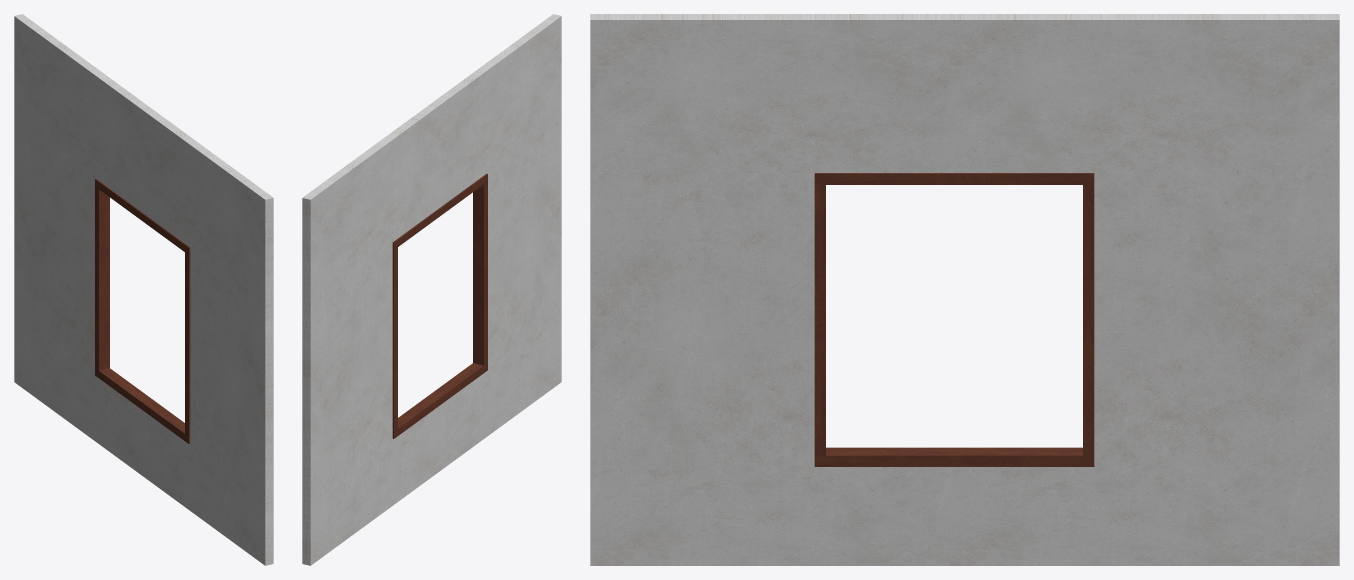
Rendered from SM_White_Red_Wall01Q.fbx.
The picture shows the model from 3 angles, left to right: view 1: azimuth 30°, elevation 25°; view 2: azimuth 150°, elevation 25°; view 3: azimuth 270°, elevation 25°; orthographic projection. The views are drawn at different scales.
Parts seen in each view (by area): view 1: SM_White_Red_Wall01Q; view 2: SM_White_Red_Wall01Q; view 3: SM_White_Red_Wall01Q.
Boxes of the visible parts, x1,y1,x2,y2 form: SM_White_Red_Wall01Q: (14, 14, 273, 565); SM_White_Red_Wall01Q: (302, 14, 561, 565); SM_White_Red_Wall01Q: (590, 14, 1339, 565).
Size of the model in its own units: 8.99 by 355 by 285.
